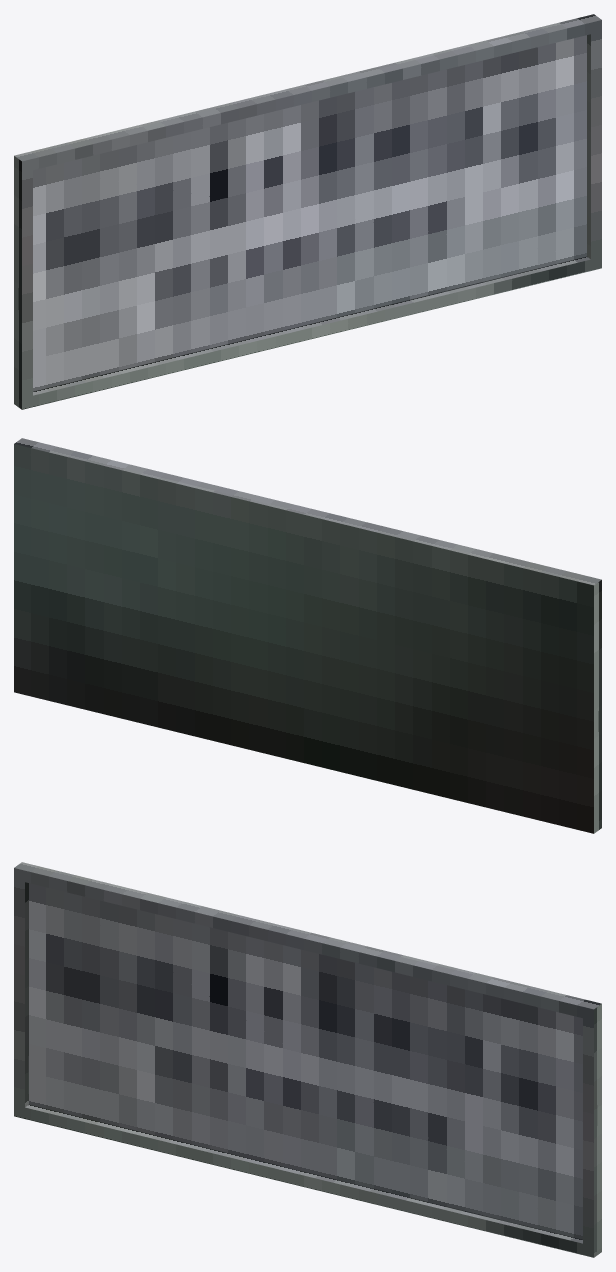
The model's file is shop_sign_optimised.glb.
The picture shows the model from 3 angles, top to bottom: view 1: azimuth 30°, elevation 25°; view 2: azimuth 150°, elevation 25°; view 3: azimuth 330°, elevation 25°; orthographic projection.
Visible parts, largest first — view 1: part0; view 2: part0; view 3: part0.
Part boxes in pixels (x1,y1,x2,y2): part0: [14, 14, 601, 409]; part0: [14, 438, 601, 833]; part0: [14, 862, 601, 1257].
Bounding box in the file's own units: 3.6 × 1.47 × 0.0859.
1 material, 1 textured.
